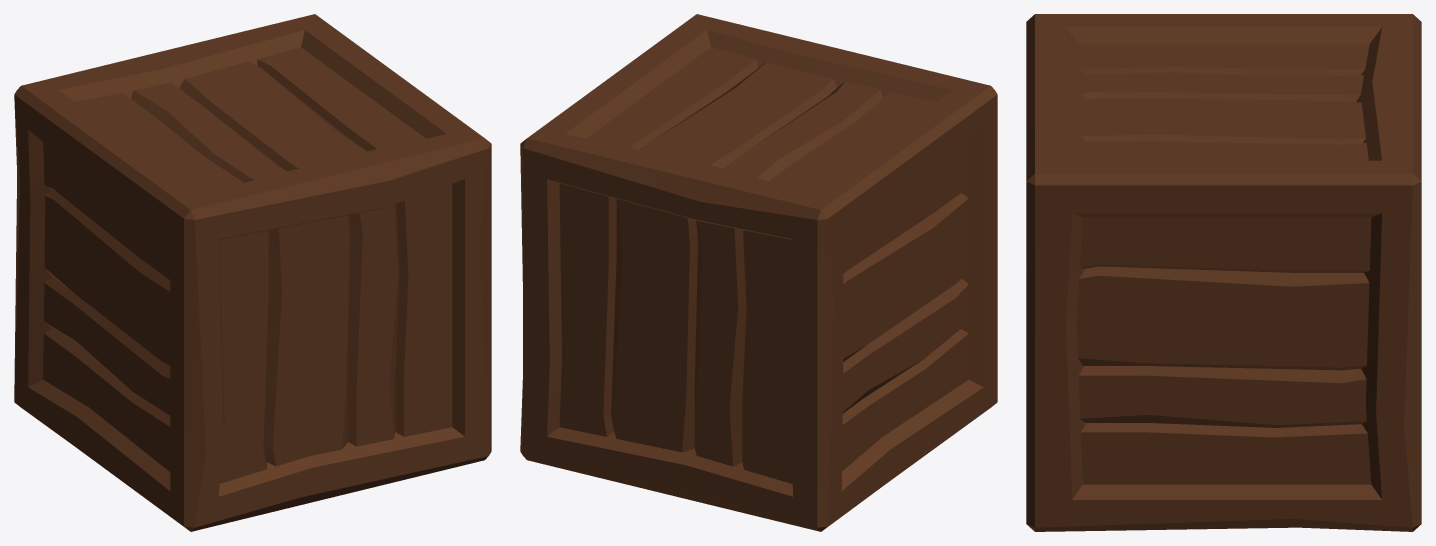
File: Dev_Box.fbx
3 views of the same model, side by side, from view 1: azimuth 30°, elevation 25°; view 2: azimuth 150°, elevation 25°; view 3: azimuth 270°, elevation 25° (orthographic). The views are drawn at different scales.
Visible parts, largest first — view 1: Prop_Box; view 2: Prop_Box; view 3: Prop_Box.
Boxes of the visible parts, x1,y1,x2,y2 form: Prop_Box: (14,14,491,531); Prop_Box: (520,14,997,531); Prop_Box: (1026,14,1421,531).
Size of the model in its own units: 107 by 107 by 107.
